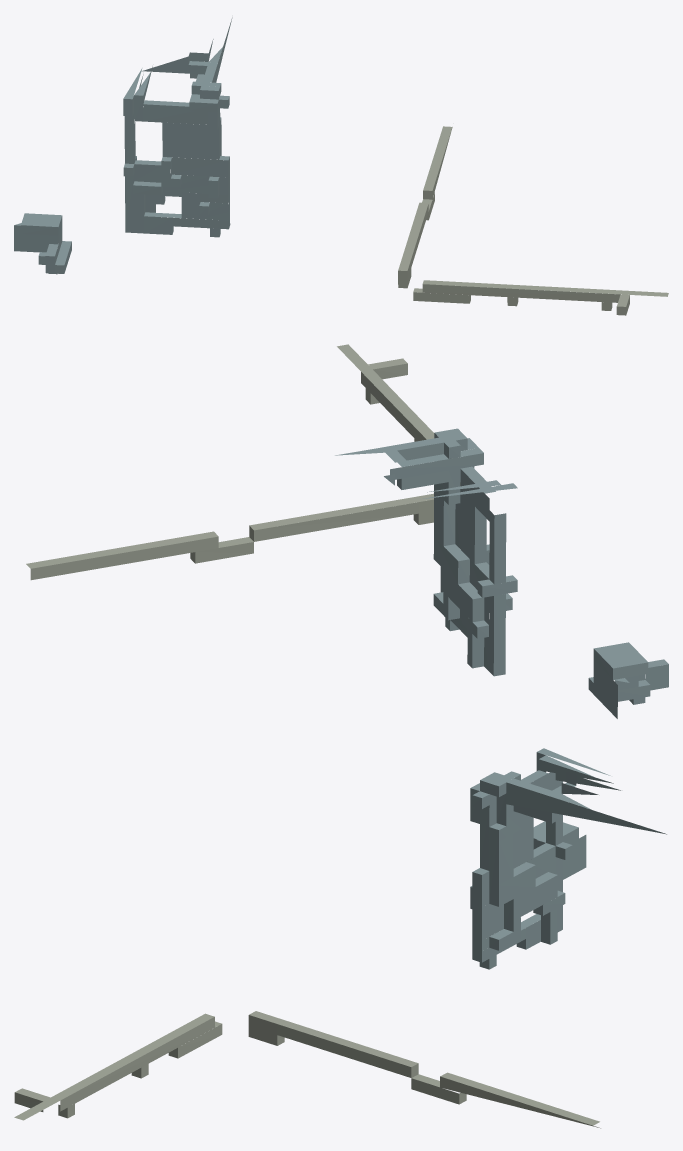
3 renders of one model, top to bottom at view 1: azimuth 30°, elevation 25°; view 2: azimuth 150°, elevation 25°; view 3: azimuth 270°, elevation 25°, orthographic. The views are drawn at different scales.
Visible parts, largest first — view 1: measured-industrial; view 2: measured-industrial; view 3: measured-industrial.
Part boxes in pixels (<box>): measured-industrial: <box>14,17,668,315</box>; measured-industrial: <box>26,344,668,718</box>; measured-industrial: <box>14,748,666,1128</box>.
Bounding box in the file's own units: 82.61 × 28.68 × 81.41.
